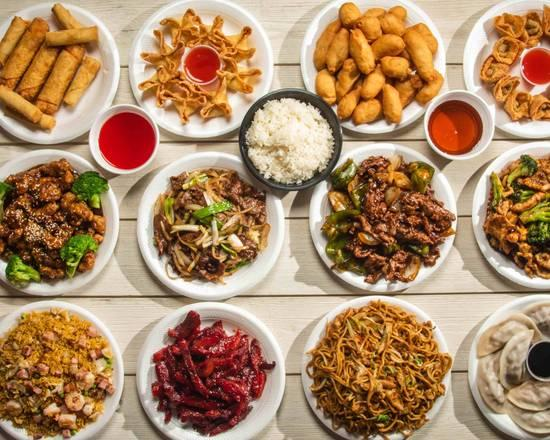Braised Crucian Carp: (307, 141, 457, 287), (301, 297, 452, 437), (136, 150, 281, 295), (137, 301, 284, 438), (130, 0, 272, 139), (299, 0, 444, 135), (1, 0, 120, 143), (2, 147, 119, 291), (1, 300, 123, 436), (465, 296, 550, 437), (462, 0, 549, 136), (470, 141, 550, 285)
